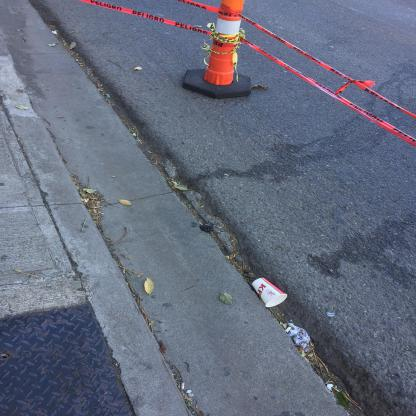karton: (253, 279, 289, 309)
